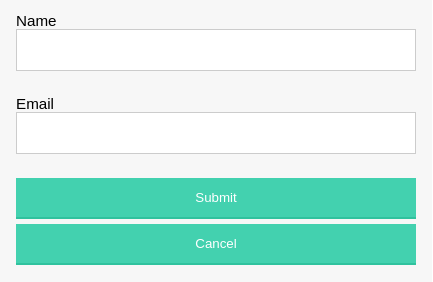
Test: FormFunctional › Submit form › must cancel submission
Type "user" into the field with test id "name".
click(216, 50); type("user")  # box x1=16 y1=29 x2=416 y2=71
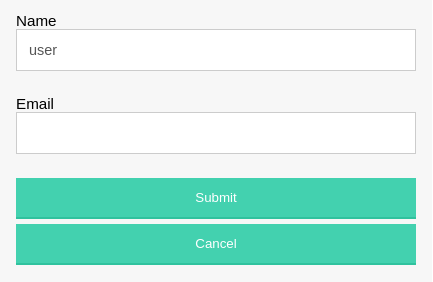
Type "mail@mail.com" into the field with test id "email".
click(216, 133); type("mail@mail.com")  # box x1=16 y1=112 x2=416 y2=154
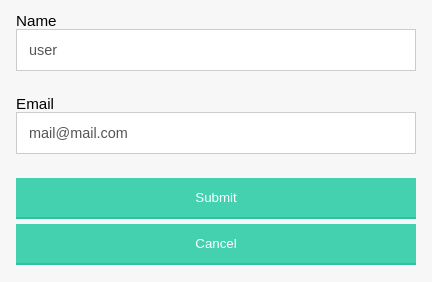
Click the button "Cancel".
click(216, 244)  # box x1=16 y1=224 x2=416 y2=265
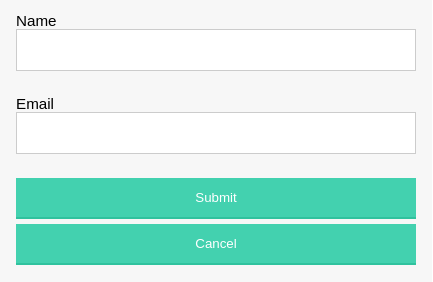
Now the field with test id "name" is empty, box x1=16 y1=29 x2=416 y2=71
Now the field with test id "email" is empty, box x1=16 y1=112 x2=416 y2=154
